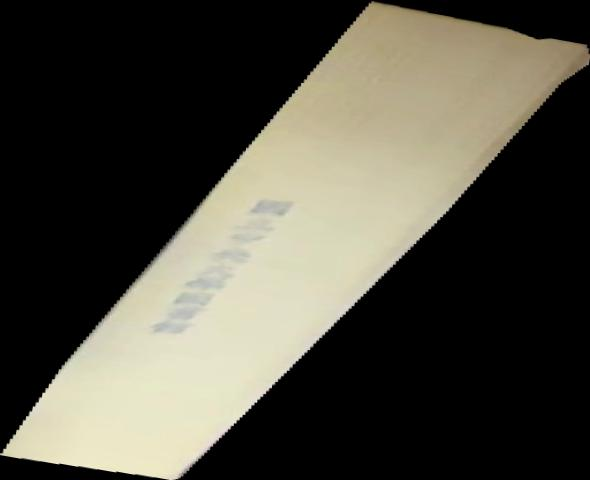backward: (1, 1, 590, 480)
